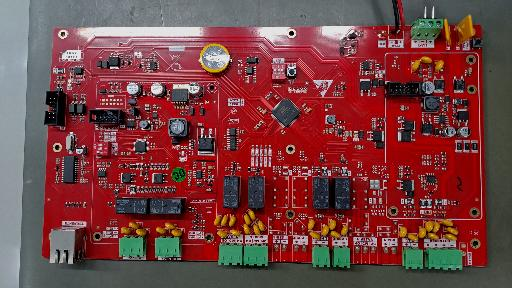var: (455, 14, 474, 45), (444, 18, 451, 46), (419, 56, 432, 64), (446, 227, 459, 235), (435, 60, 444, 71), (425, 221, 434, 232), (243, 224, 252, 235), (171, 229, 183, 237), (412, 60, 420, 72), (399, 226, 407, 238), (418, 226, 426, 238), (329, 218, 337, 230), (243, 214, 251, 226), (427, 232, 439, 240), (444, 234, 457, 241), (440, 220, 453, 227), (136, 228, 147, 236), (432, 222, 440, 233), (253, 224, 261, 235), (120, 227, 132, 234), (221, 215, 228, 227), (308, 218, 315, 230), (230, 229, 242, 236), (322, 224, 329, 236), (248, 210, 256, 220), (257, 221, 265, 231), (214, 215, 221, 226), (129, 222, 140, 229), (229, 215, 236, 226), (341, 225, 348, 236), (156, 227, 167, 234), (165, 222, 176, 229), (217, 230, 228, 237), (330, 231, 341, 238), (309, 232, 320, 239), (407, 234, 418, 241)
